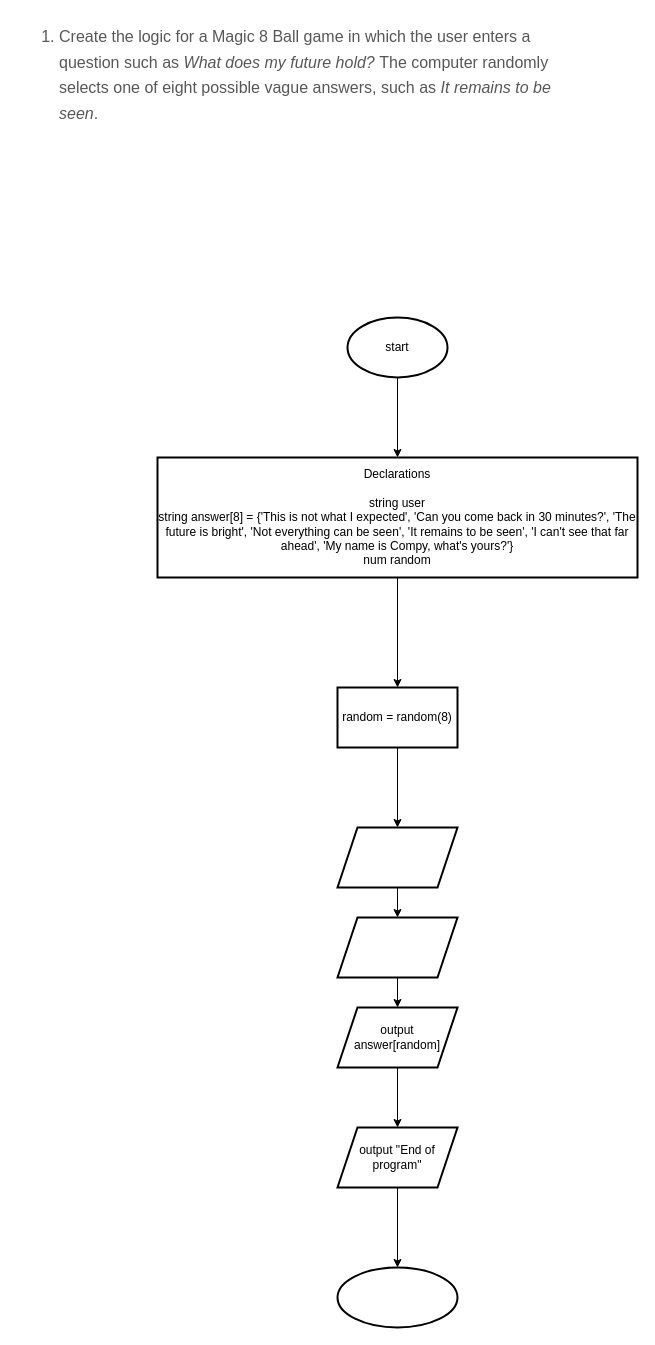
Image size: 655x1345. Some labels were removed from this diagram. Each missing label, with the centre of its shape:
input user: point (397, 947)
output "Ask the computer a question": point (397, 857)
